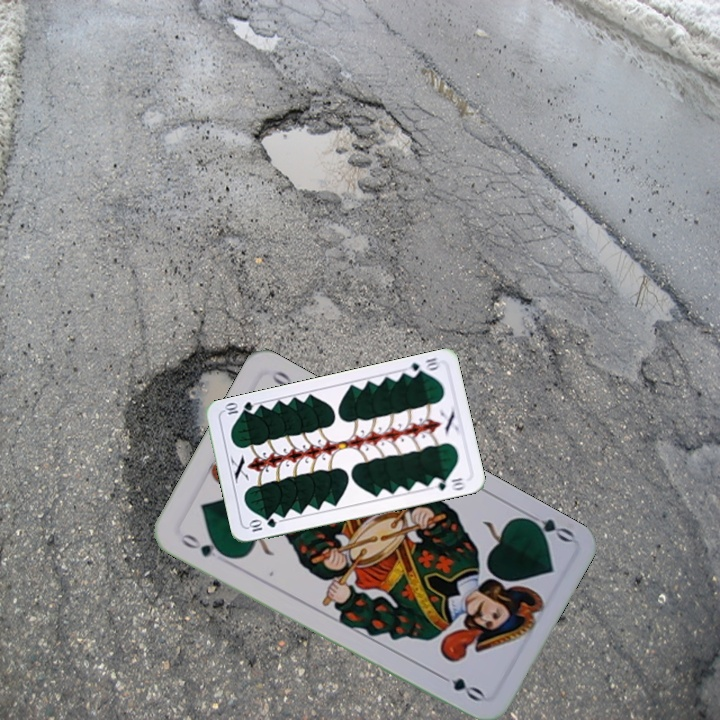G10: (403, 353, 442, 379), (245, 514, 279, 534)
GO: (518, 507, 576, 545), (176, 529, 231, 560)
